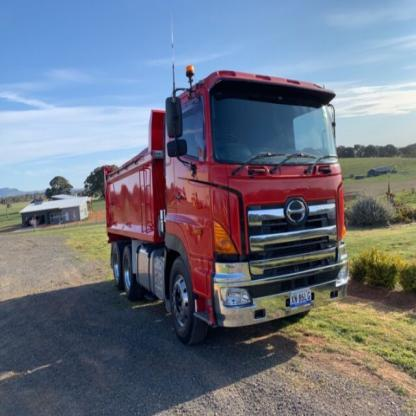dump_truck: (104, 53, 356, 342)
